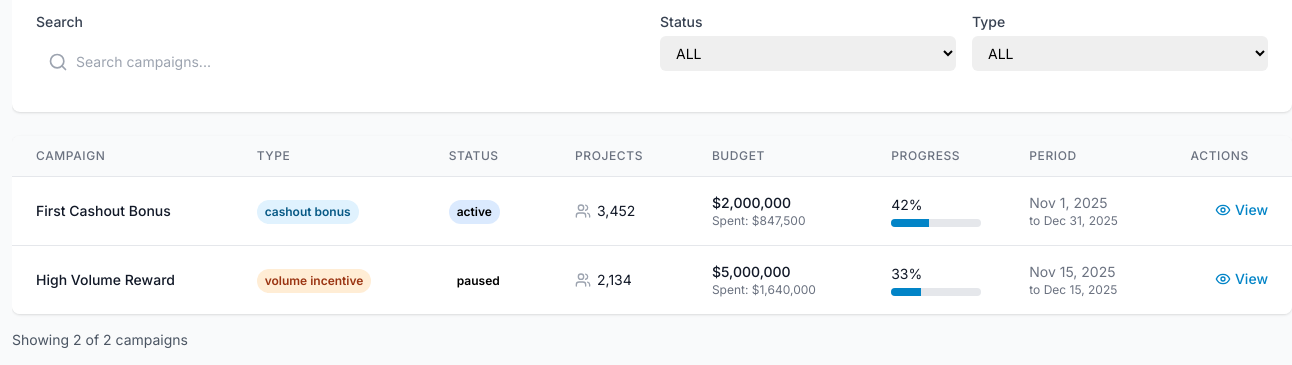
Test: CampaignsClient Component › Rendering › Search Functionality › should show "no campaigns" message when search returns no results
In the field with placeholder "Search campaigns...": (340,62) [36,36,644,88], type "nonexistent"
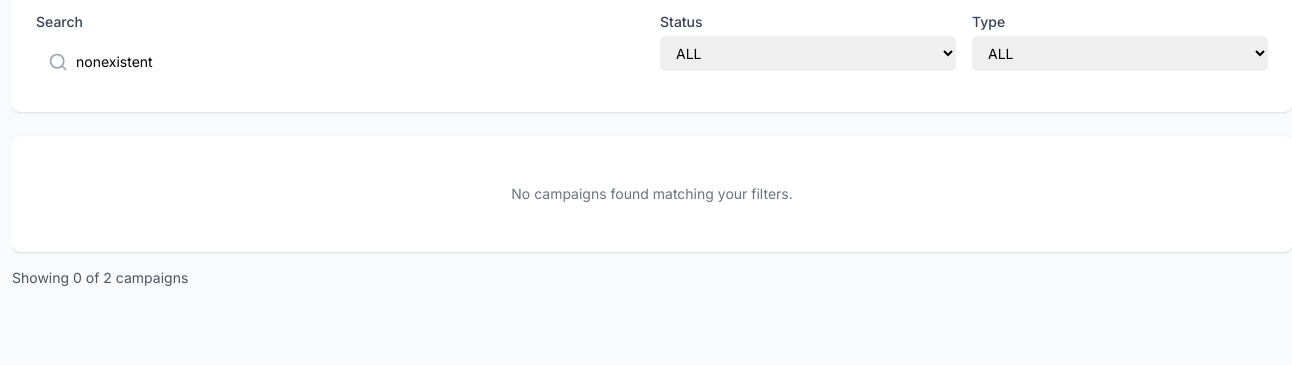
Result: the text "No campaigns found matching your filters." is shown at [511,185,793,202]
